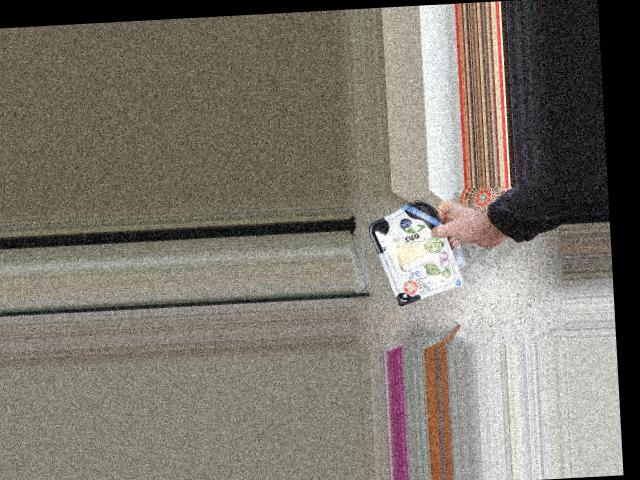cheese: (376, 206, 448, 299)
